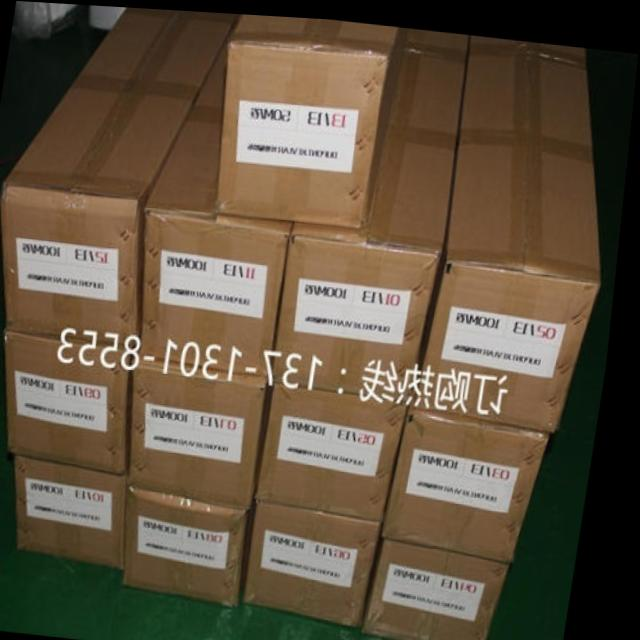box: (4, 6, 239, 345), (421, 42, 607, 426), (275, 45, 468, 402), (146, 11, 298, 378), (219, 11, 408, 224), (390, 404, 560, 555), (137, 354, 282, 507), (263, 379, 419, 517), (13, 330, 144, 474), (254, 498, 395, 625), (376, 535, 522, 640), (134, 487, 262, 601), (24, 455, 137, 567), (471, 30, 583, 58), (405, 23, 471, 56)
